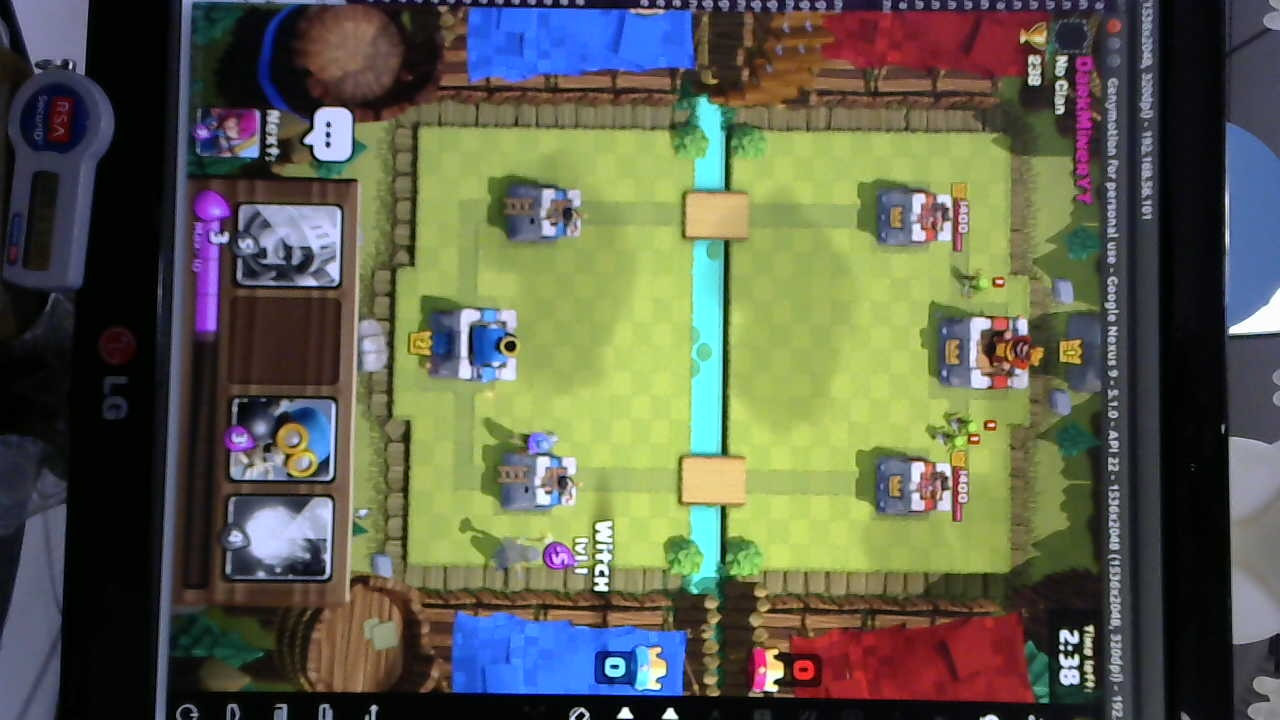arena: (501, 182, 586, 243), (495, 452, 580, 509)
earena: (873, 185, 957, 252), (878, 457, 961, 512)
eking: (937, 309, 1034, 392)
goblin: (949, 266, 1002, 298)
goblins: (923, 415, 997, 450)
king: (425, 306, 519, 388)
musketeer: (514, 426, 562, 460)
